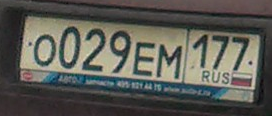character: (107, 26, 131, 77), (83, 27, 107, 74), (58, 23, 81, 71), (156, 42, 183, 82), (133, 40, 155, 79), (32, 34, 57, 67), (229, 33, 250, 71), (210, 34, 229, 70), (192, 32, 209, 70)
